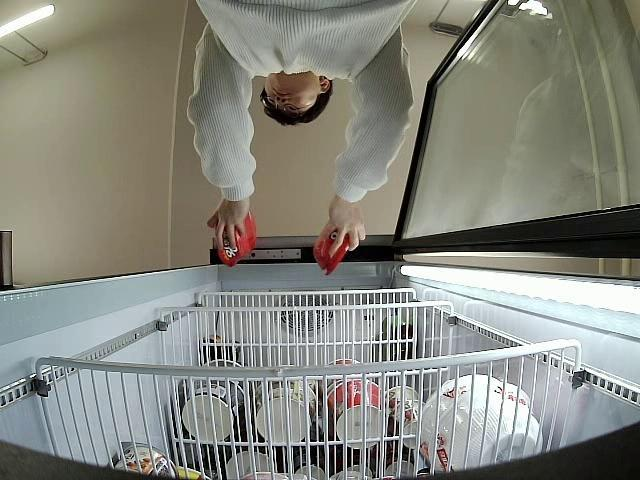10_wangTtukkeong: (214, 203, 256, 269), (314, 228, 350, 276)
